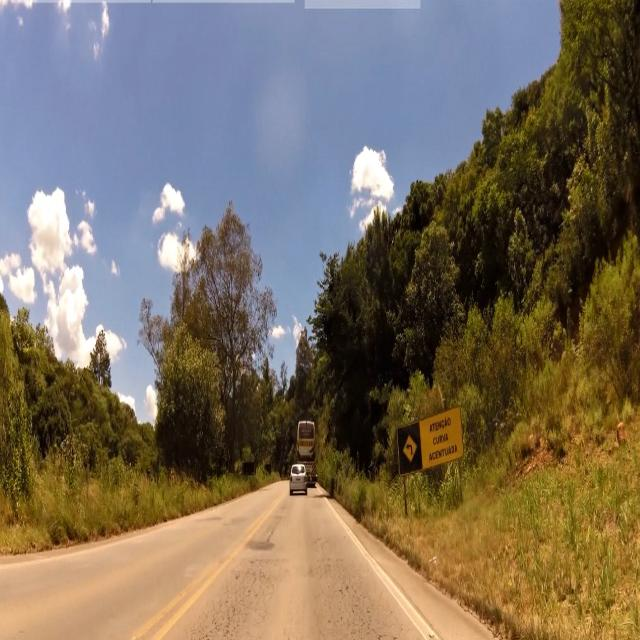A-1a: (402, 434, 417, 462)
